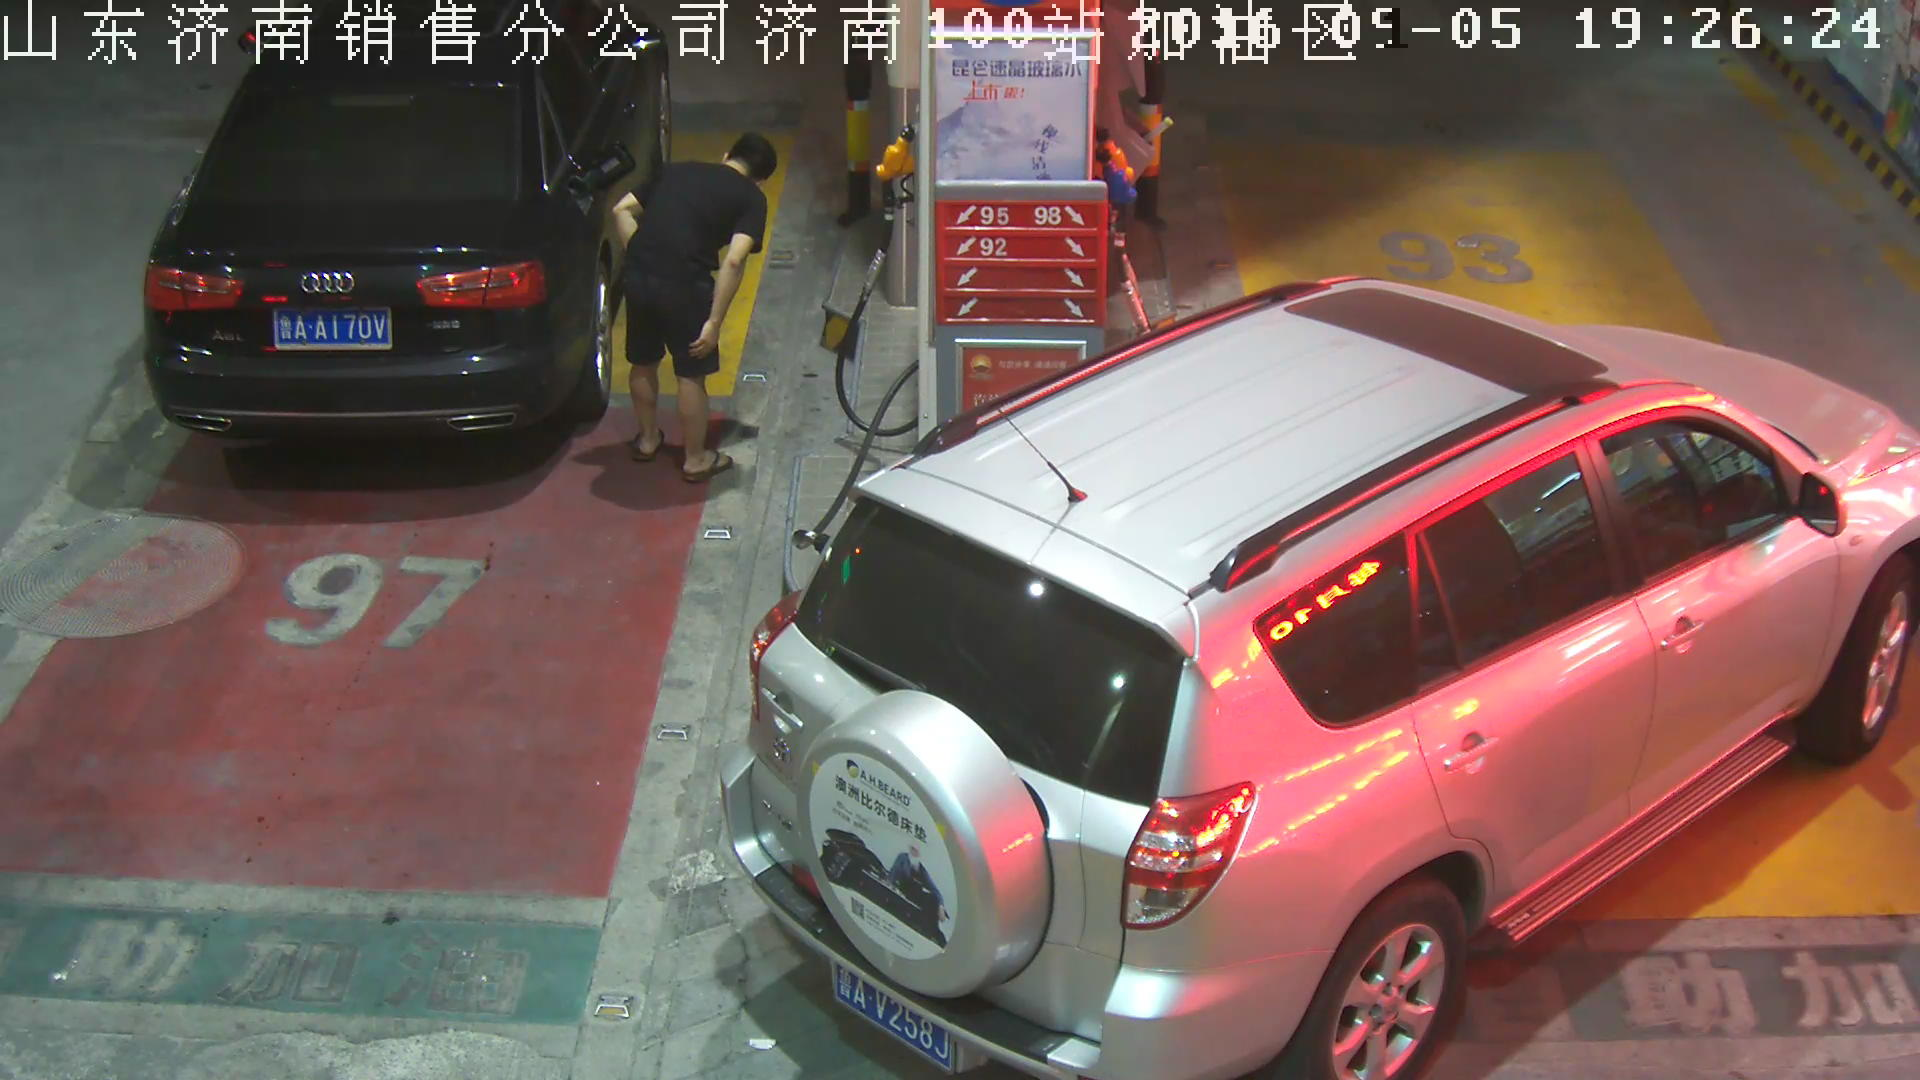blue: (274, 306, 396, 355)
